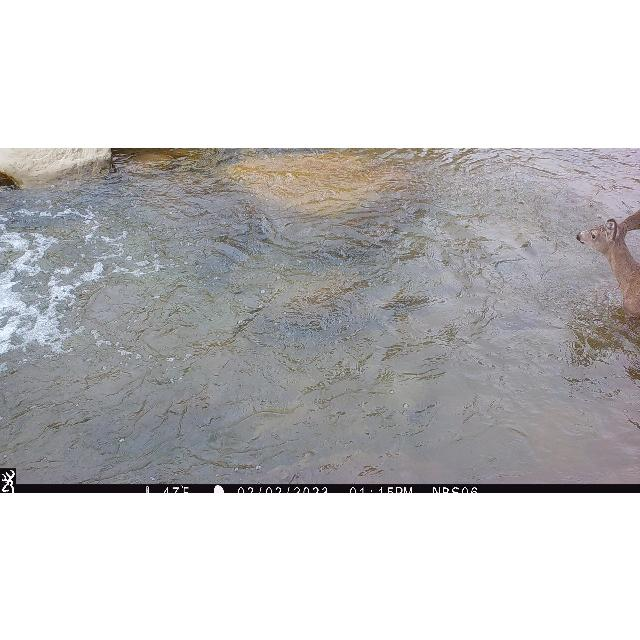animals: (575, 209, 640, 321)
